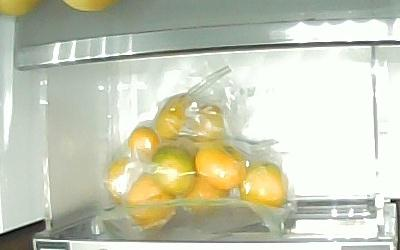tangerine_vinyl: (125, 171, 177, 229), (193, 140, 247, 189), (148, 144, 196, 196), (238, 160, 287, 210), (183, 103, 225, 155), (178, 172, 230, 213), (152, 92, 191, 141), (103, 155, 135, 205), (126, 124, 160, 163)
